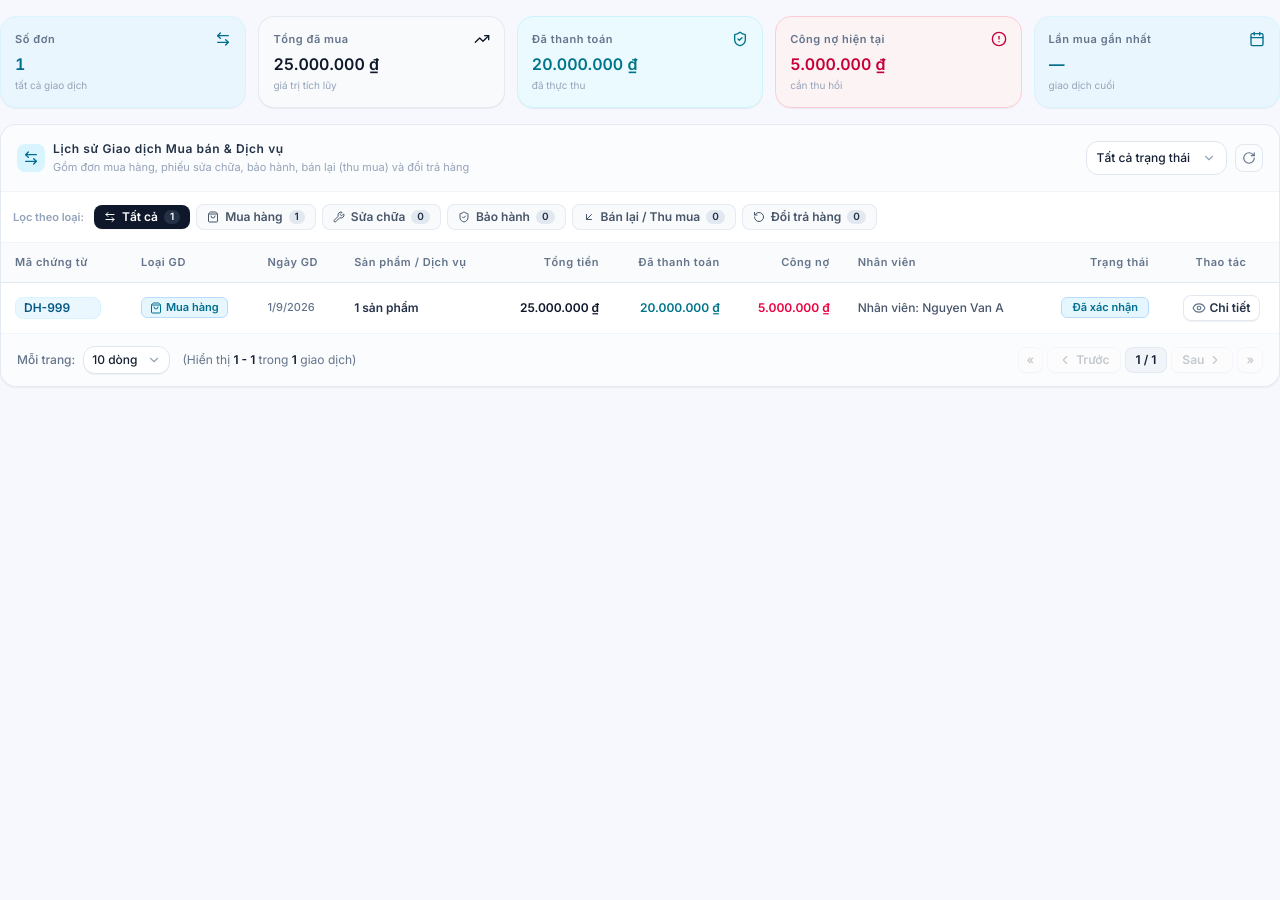
CustomerPurchaseHistoryPanel › opens order detail modal when clicking row or detail button and closes when clicking close
expect the text "DH-999" is shown: met, box [24,300,70,316]
// Click "Chi tiết" button
What coordinates should you click on to do the following:
click the button "Chi tiết"
I would click on:
 (1221, 308)
Its box is [1182,295,1260,321].
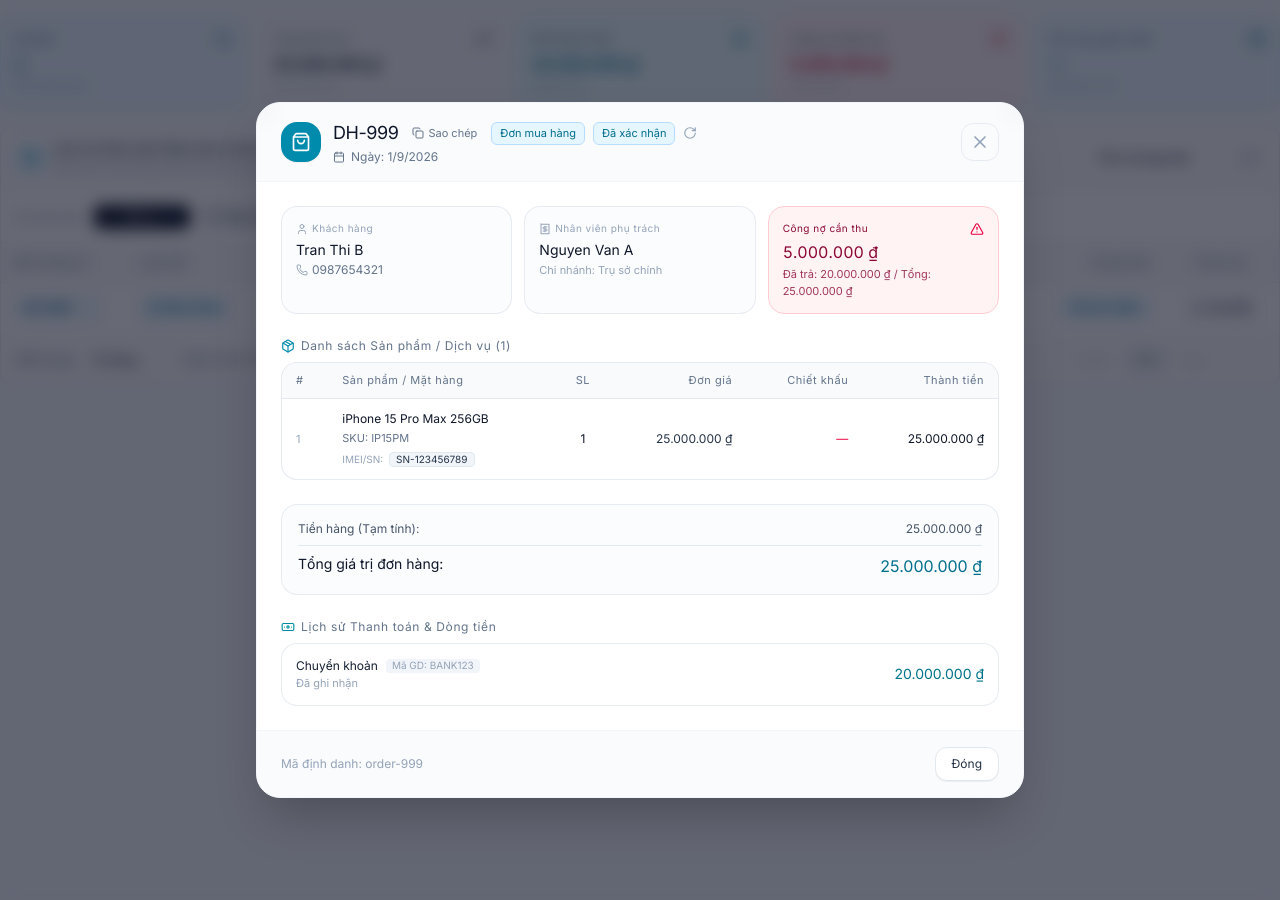
expect the text "iPhone 15 Pro Max 256GB" is shown: met, box [342,411,489,427]
expect the text "SN-123456789" is shown: met, box [389,452,474,467]
expect the text "Tran Thi B" is shown: met, box [296,241,363,258]
// Close modal
What coordinates should you click on to do the following:
click the button named "Đóng"
I would click on:
 (980, 142)
Its box is [961,123,999,161].
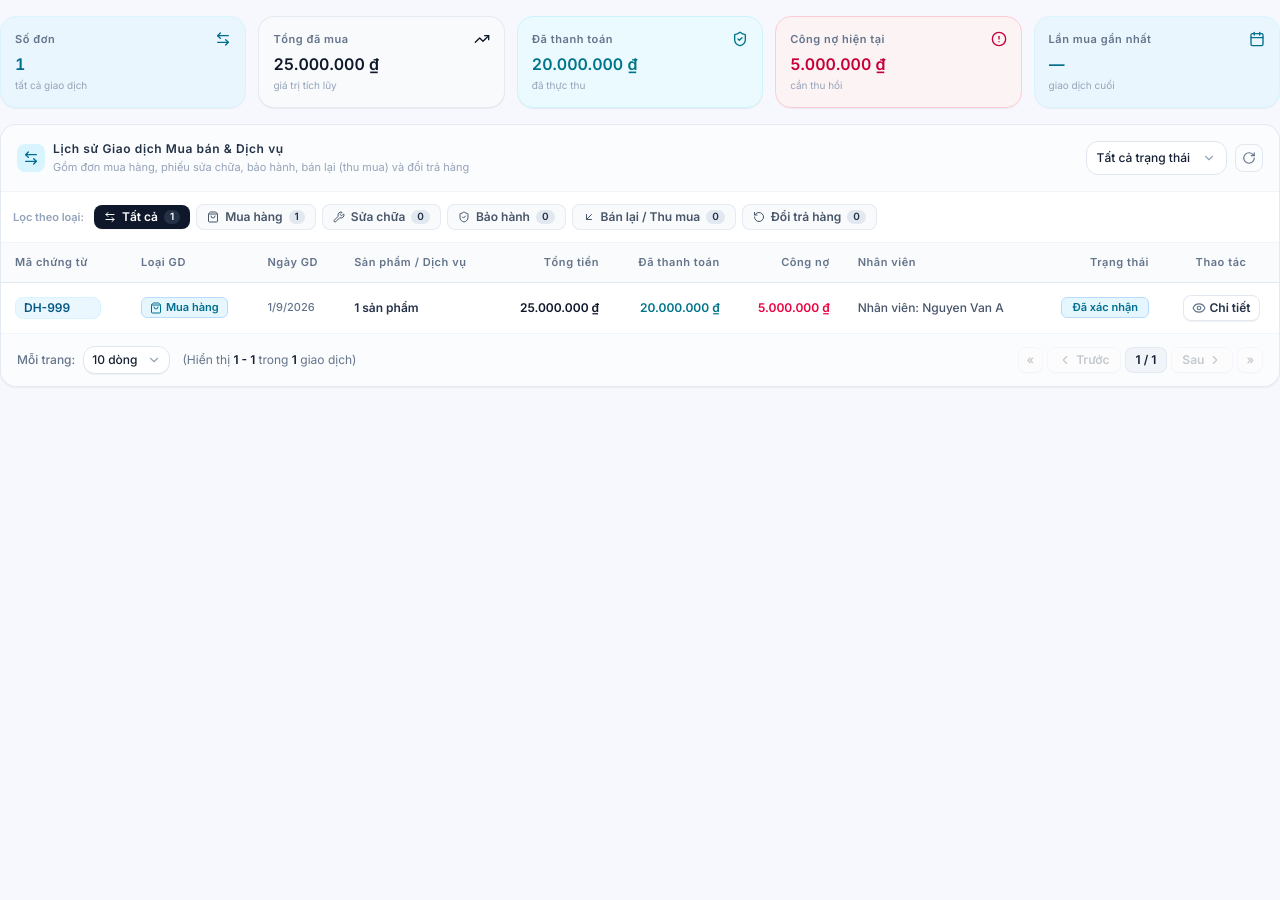
expect the text "SN-123456789" is gone: met
